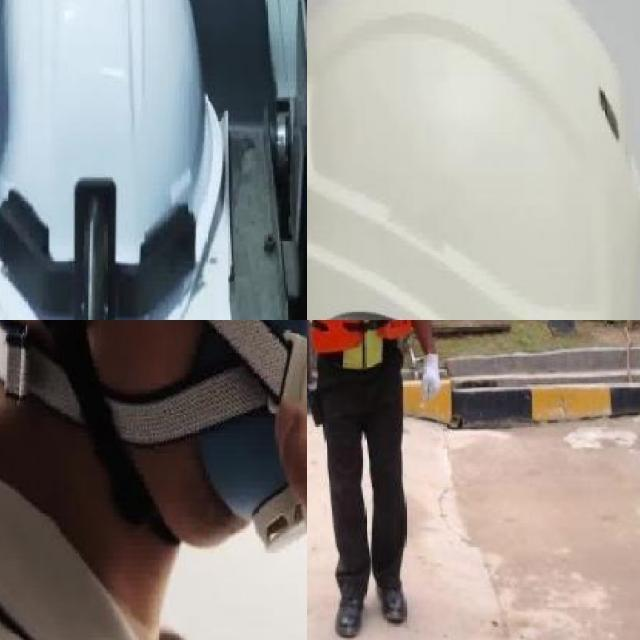apron: (416, 349, 444, 406)
